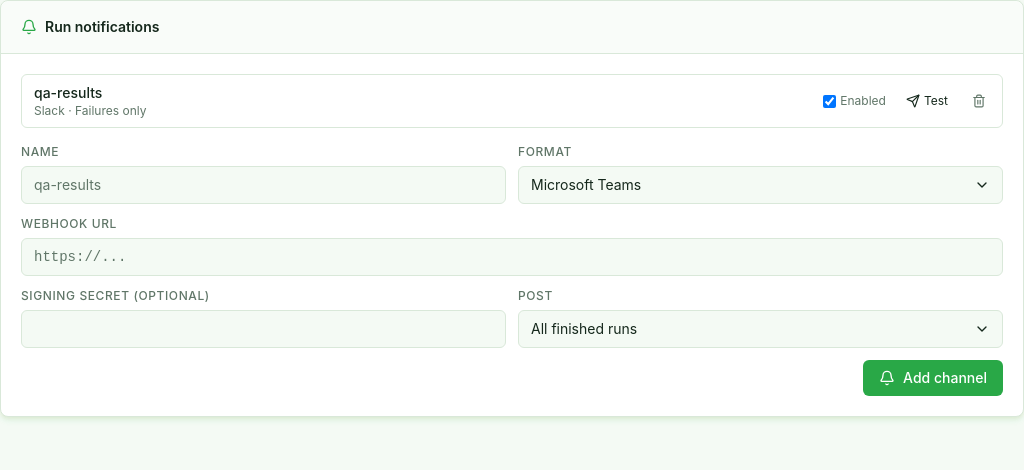
Test: Run notifications settings › shows the error when adding fails
Check: the text "qa-results" is shown, box 34,84 -> 102,101
In the field labelled "Name": (264, 185) 21,166 -> 506,204, type "lab"
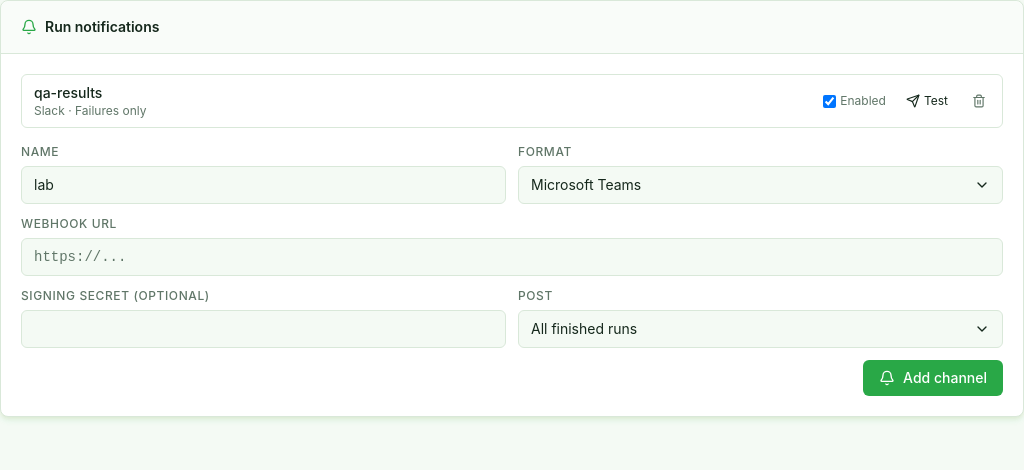
In the field labelled "Webhook URL": (512, 257) 21,238 -> 1003,276, type "https://example.com/hook"
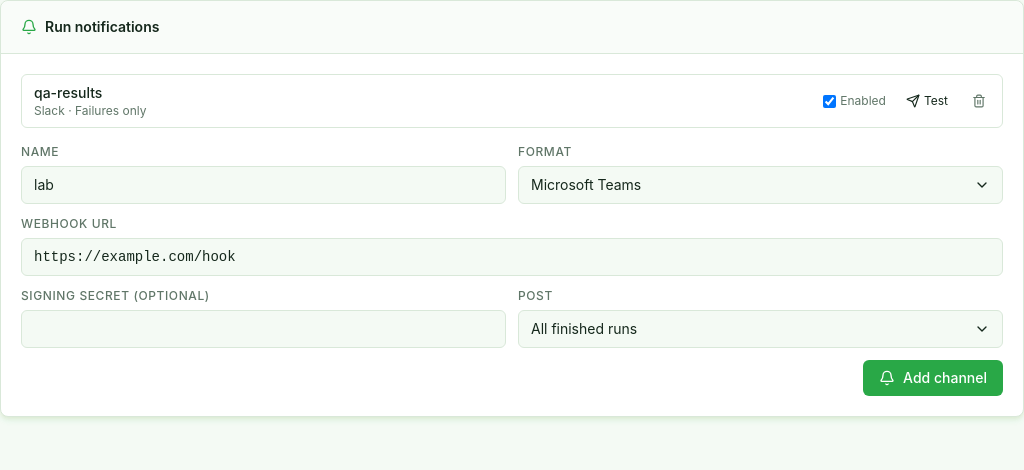
Click the button "Add channel": click(933, 378) 863,360 -> 1003,396
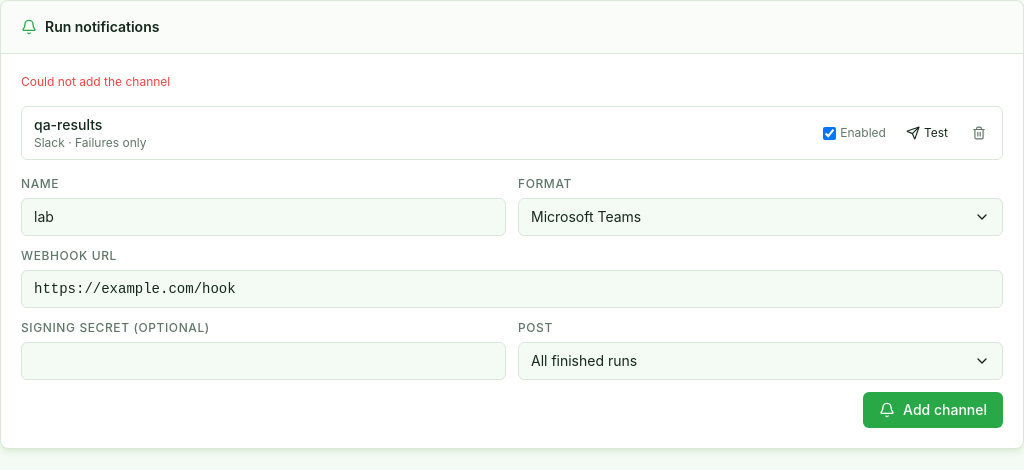
Check: the text "Could not add the channel" is shown, box 21,74 -> 170,89
